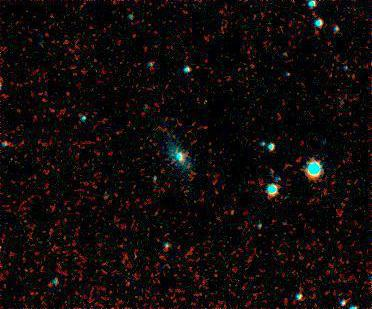star: (216, 198, 246, 228)
